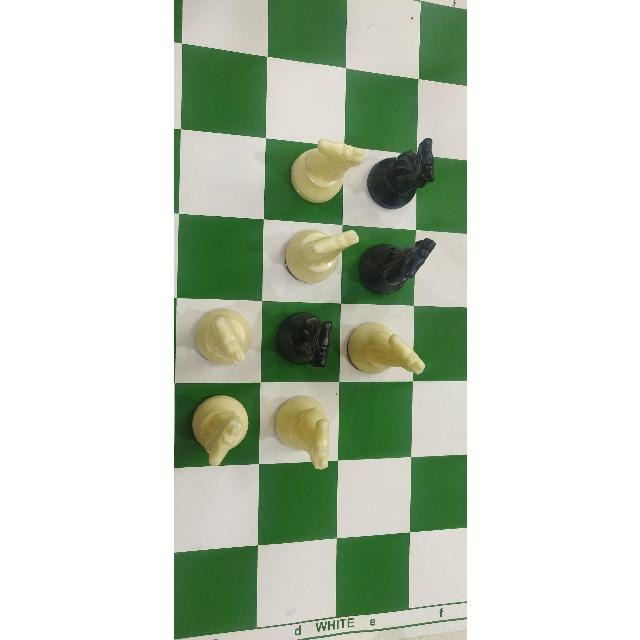black-knight: (358, 226, 444, 299), (367, 133, 442, 216), (269, 300, 338, 370)
white-knight: (278, 138, 363, 216), (345, 313, 427, 379), (189, 390, 257, 468), (273, 392, 341, 469), (280, 226, 356, 289), (192, 301, 258, 373)
